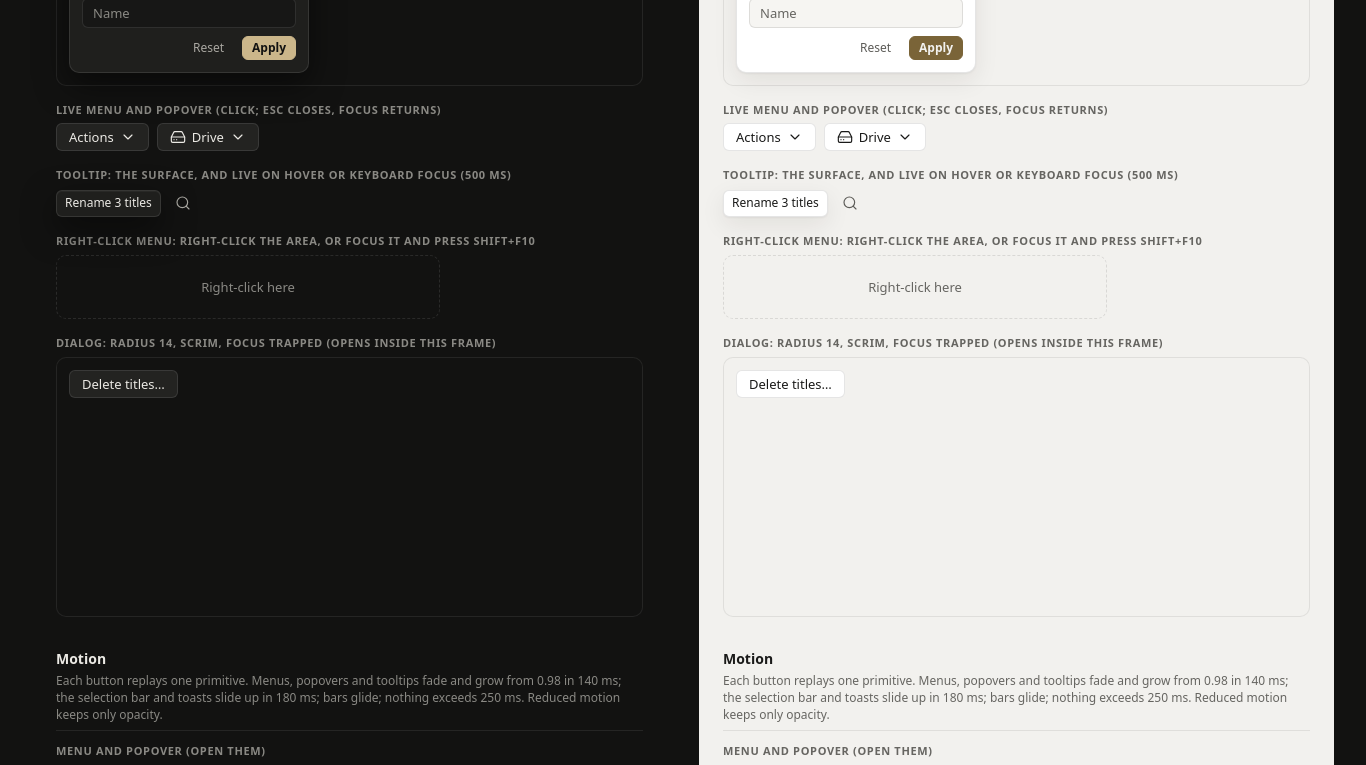
Test: component gallery › opens the dialog inside the frame of its column
Click the 1st button "Delete titles…" at (123, 384), box [69,370,178,398]
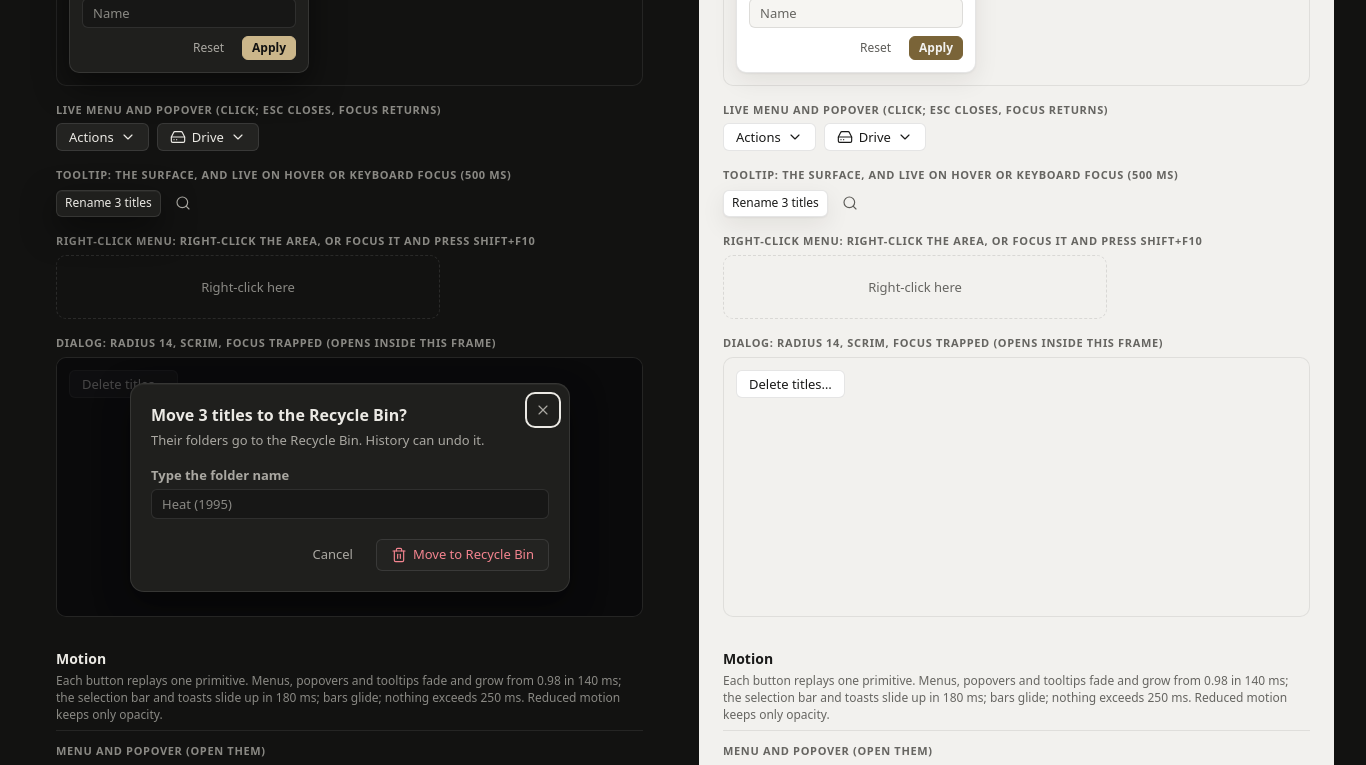
Press Escape
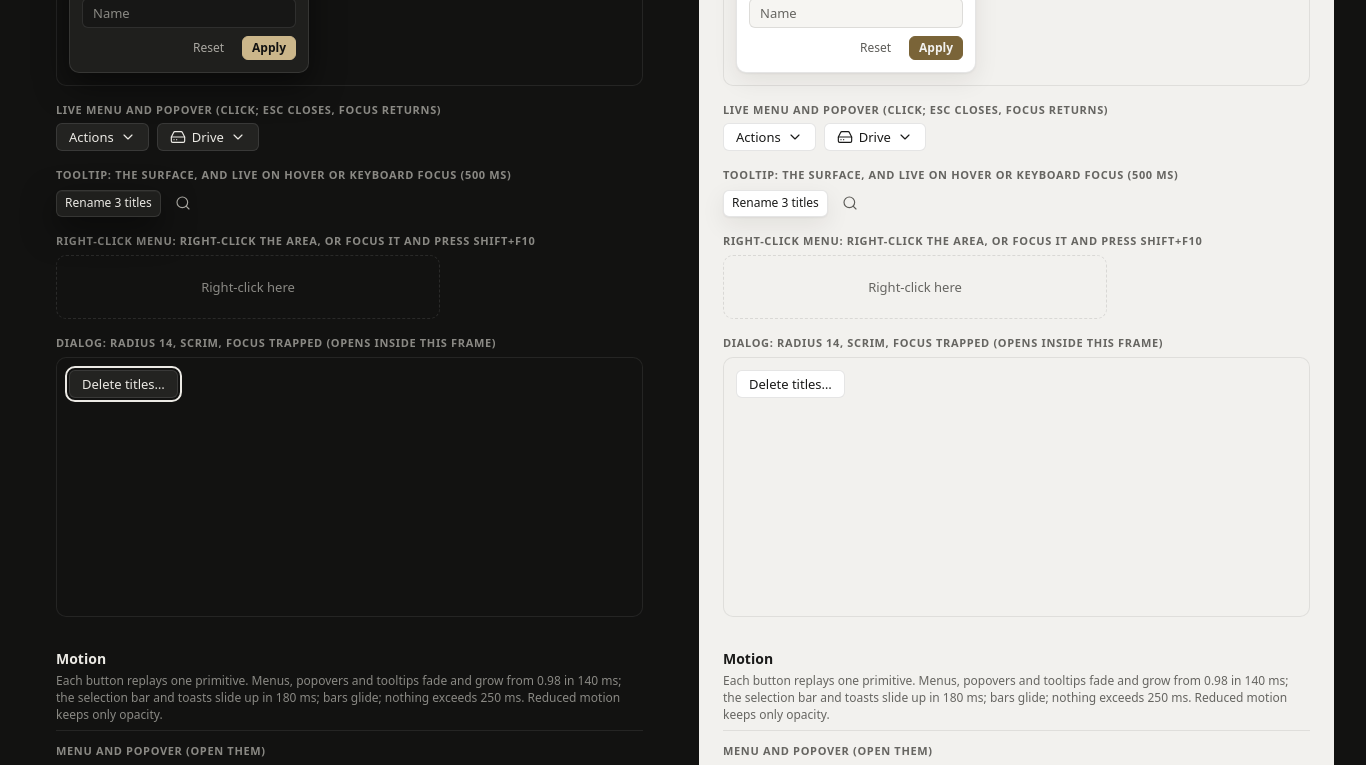
expect the dialog is gone: met
